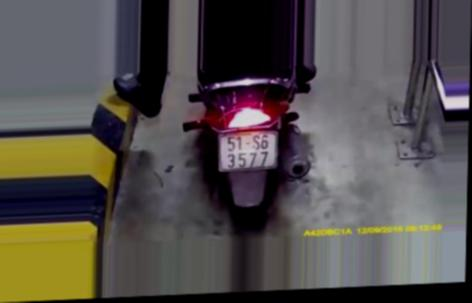License_Plate: (215, 124, 281, 175)
